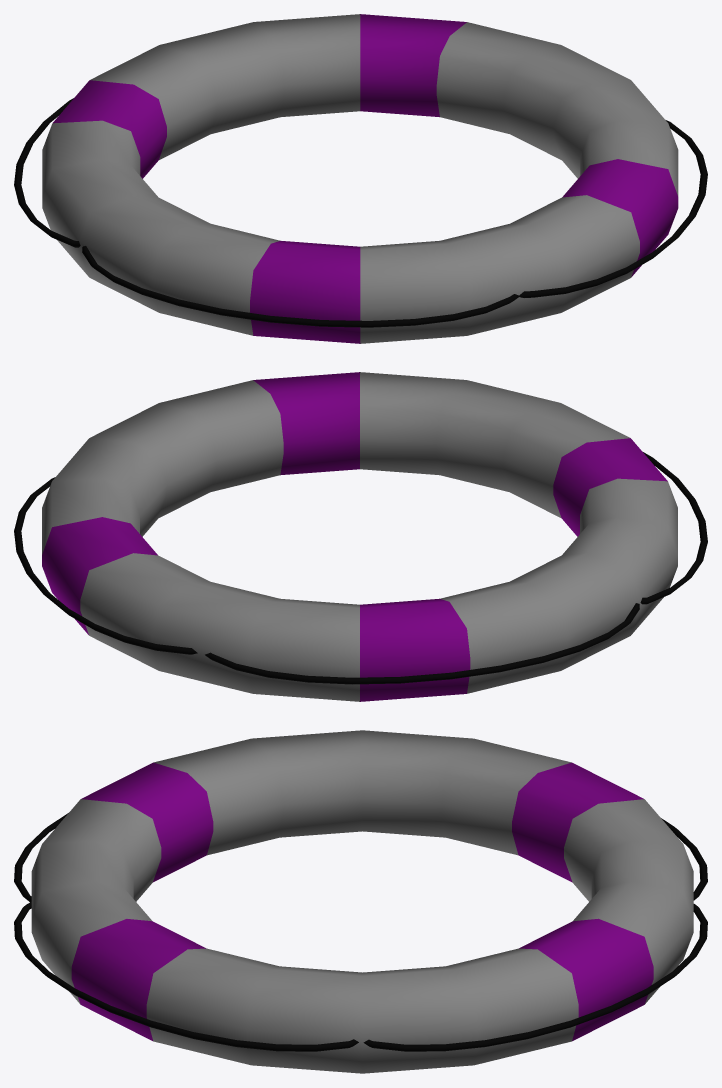
File: SM_Lifeline.fbx
3 renders of one model, top to bottom at view 1: azimuth 30°, elevation 25°; view 2: azimuth 150°, elevation 25°; view 3: azimuth 270°, elevation 25°, orthographic. The views are drawn at different scales.
Visible parts, largest first — view 1: SM_Lifeline; view 2: SM_Lifeline; view 3: SM_Lifeline.
Part boxes in pixels (x1,y1,x2,y2): SM_Lifeline: [14, 14, 707, 343]; SM_Lifeline: [14, 372, 707, 701]; SM_Lifeline: [14, 730, 707, 1073].
Bounding box in the file's own units: 72.86 × 9.37 × 72.26.
